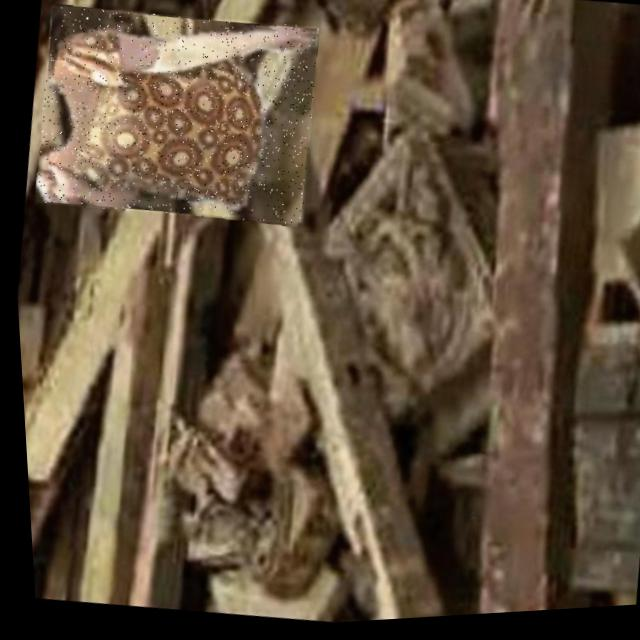Person in Rubble: (24, 0, 328, 239)
